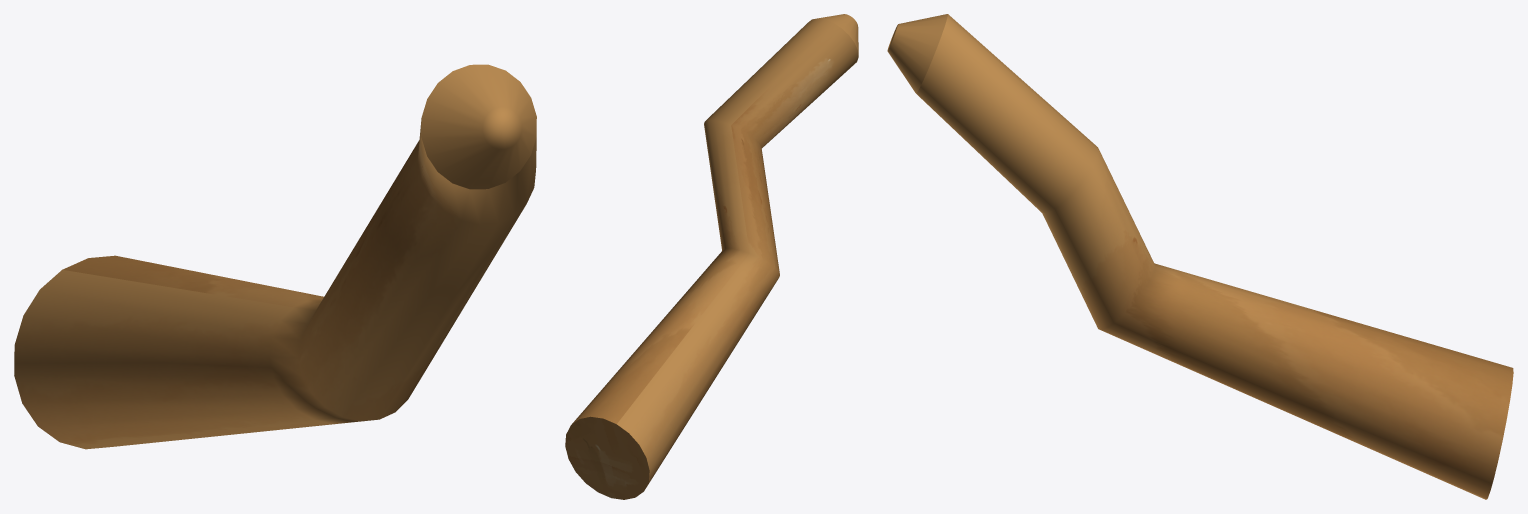
File: Branch5.fbx
3 views of the same model, side by side, from view 1: azimuth 30°, elevation 25°; view 2: azimuth 150°, elevation 25°; view 3: azimuth 270°, elevation 25° (orthographic). The views are drawn at different scales.
Visible parts, largest first — view 1: pCylinder7; view 2: pCylinder7; view 3: pCylinder7.
Part boxes in pixels (<box>): pCylinder7: <box>14,64,536,449</box>; pCylinder7: <box>565,14,858,499</box>; pCylinder7: <box>887,14,1513,499</box>.
Bounding box in the file's own units: 0.7931 × 2.48 × 3.03.
